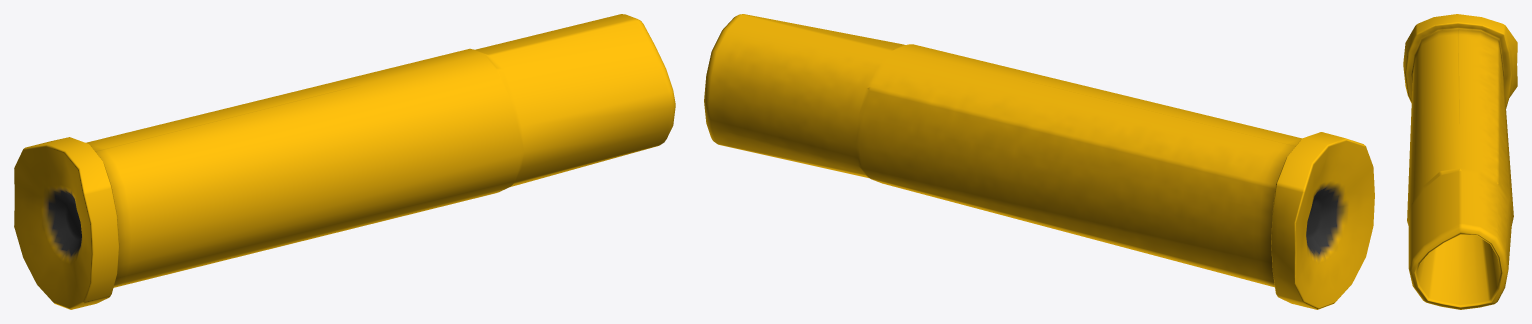
File: SM_CarbineCasing.fbx
3 renders of one model, left to right at view 1: azimuth 30°, elevation 25°; view 2: azimuth 150°, elevation 25°; view 3: azimuth 270°, elevation 25°, orthographic. The views are drawn at different scales.
Parts seen in each view (by area): view 1: SpentCasingMesh; view 2: SpentCasingMesh; view 3: SpentCasingMesh.
Part boxes in pixels (box(x1,y1,x2,y2)): SpentCasingMesh: box(14, 14, 675, 309); SpentCasingMesh: box(704, 14, 1374, 309); SpentCasingMesh: box(1403, 14, 1517, 309).
Bounding box in the file's own units: 4.16 × 0.9628 × 1.03.
